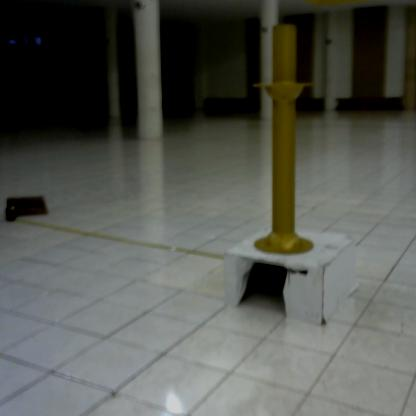pole: (248, 23, 325, 264)
